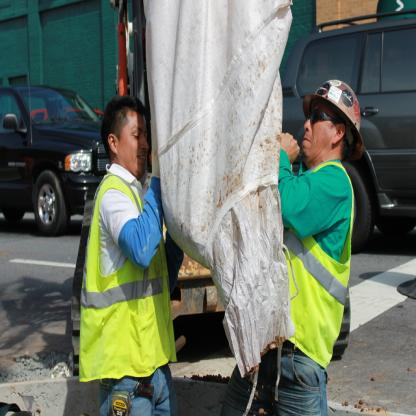Car: (282, 11, 416, 255), (1, 84, 113, 236)
